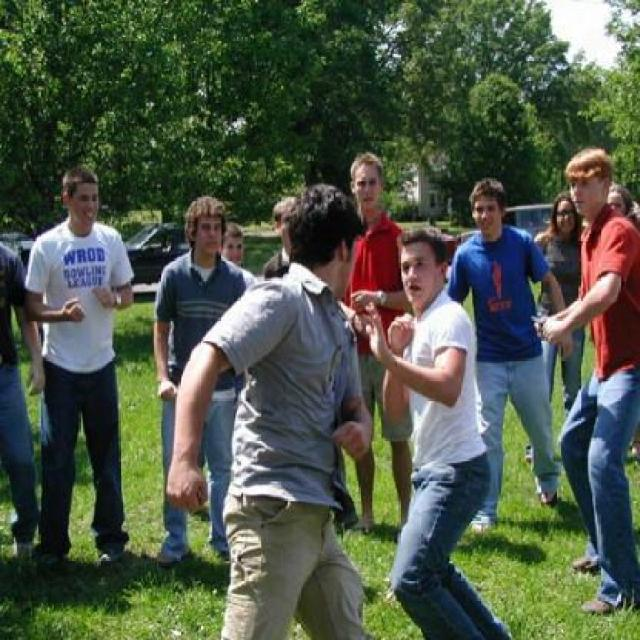fight: (210, 189, 496, 640), (0, 119, 223, 567), (471, 140, 640, 612)
